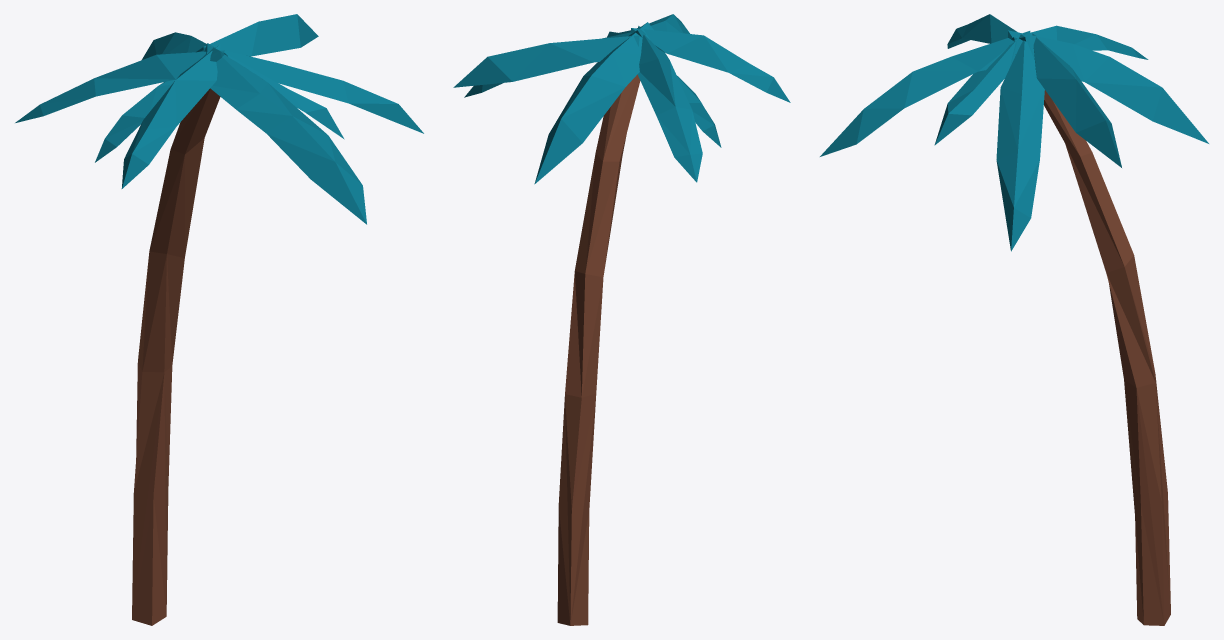
Rendered from Tree_09_summer_blue_vc.fbx.
The picture shows the model from 3 angles, left to right: view 1: azimuth 30°, elevation 25°; view 2: azimuth 150°, elevation 25°; view 3: azimuth 270°, elevation 25°; orthographic projection. The views are drawn at different scales.
Visible parts, largest first — view 1: Tree_09_summer_blue_vc; view 2: Tree_09_summer_blue_vc; view 3: Tree_09_summer_blue_vc.
Boxes of the visible parts, x1,y1,x2,y2 form: Tree_09_summer_blue_vc: (15, 14, 423, 625); Tree_09_summer_blue_vc: (453, 14, 790, 625); Tree_09_summer_blue_vc: (820, 14, 1208, 625).
Size of the model in its own units: 128 by 228 by 137.
